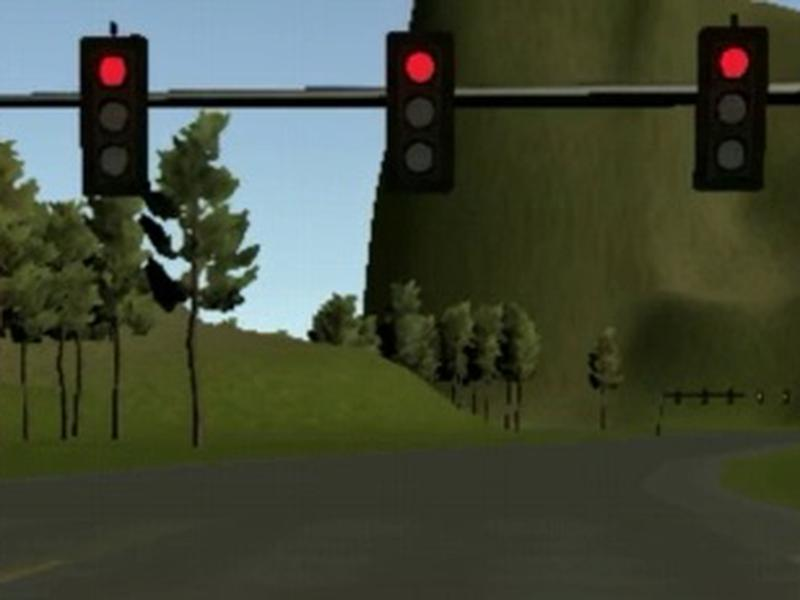Red: (693, 26, 769, 191), (79, 34, 148, 198), (387, 32, 454, 194)
